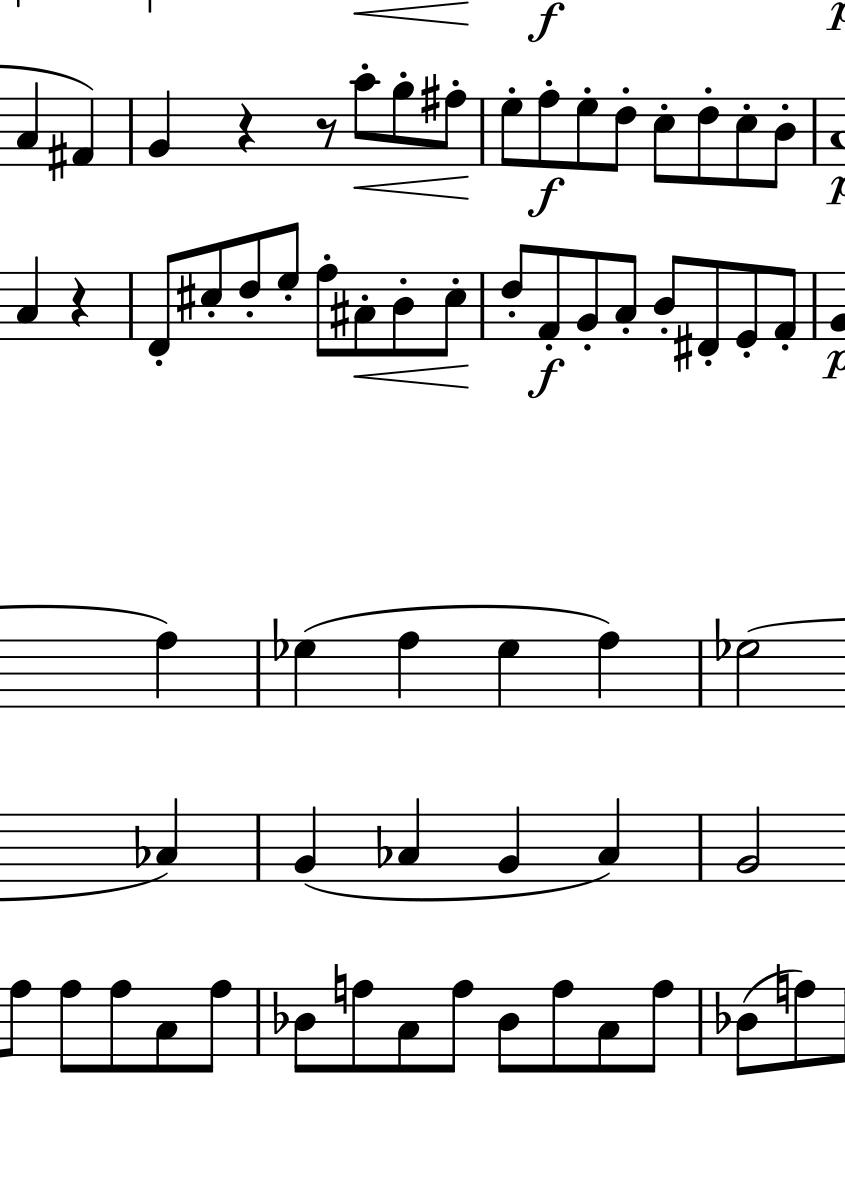2_2: (735, 804, 761, 883)
2_7: (734, 638, 761, 710)
4_1: (70, 96, 95, 168)
4_2: (293, 805, 318, 883), (497, 805, 522, 882), (148, 88, 171, 168)
4_3: (14, 81, 40, 166), (14, 254, 39, 341), (397, 797, 422, 883), (156, 797, 180, 884), (597, 796, 621, 883)
4_7: (495, 638, 521, 710), (292, 639, 316, 711)
4_8: (595, 631, 621, 711), (394, 630, 420, 709), (153, 631, 178, 711)
8_-1: (147, 252, 176, 359), (697, 258, 722, 359)
8_0: (734, 262, 760, 349)
8_1: (537, 246, 561, 342), (771, 267, 797, 341)
8_10: (351, 72, 380, 167)
8_2: (576, 250, 600, 341)
8_3: (349, 271, 377, 360), (153, 986, 180, 1075), (595, 987, 621, 1073), (395, 986, 420, 1075), (614, 254, 638, 341)
8_4: (767, 97, 798, 190), (652, 254, 684, 341), (386, 271, 416, 359), (733, 987, 758, 1080), (292, 987, 318, 1076), (495, 986, 521, 1075)
8_5: (434, 271, 468, 359), (199, 240, 224, 342), (732, 97, 759, 189), (651, 97, 677, 183)
8_6: (498, 243, 531, 341), (237, 229, 263, 343), (606, 96, 638, 173), (695, 96, 720, 186)
8_7: (276, 221, 302, 342), (574, 97, 600, 171), (499, 96, 524, 169)
8_8: (440, 978, 475, 1074), (641, 978, 675, 1075), (200, 978, 233, 1076), (106, 979, 133, 1075), (1, 978, 32, 1061), (548, 979, 575, 1074), (349, 980, 376, 1074), (57, 979, 83, 1074), (437, 89, 468, 168), (314, 263, 337, 358), (793, 979, 817, 1070), (535, 89, 560, 169)
8_9: (390, 81, 415, 168)
Crescendo_hairpin: (354, 172, 470, 201), (352, 362, 471, 388)
Flat: (710, 614, 730, 664), (269, 616, 288, 663), (271, 990, 289, 1036), (374, 823, 392, 869), (713, 992, 731, 1038), (134, 824, 150, 872)
Natural: (332, 962, 348, 1016), (776, 963, 790, 1015)
Rests4: (235, 102, 254, 156), (69, 276, 87, 329)
Rests8: (315, 117, 338, 148)
Sharp: (172, 271, 197, 324), (327, 288, 351, 343), (46, 131, 68, 182), (671, 324, 694, 372), (418, 73, 439, 125)
Single_barline: (690, 813, 711, 881), (691, 640, 711, 708), (250, 640, 269, 708), (249, 814, 268, 881), (692, 988, 709, 1058), (806, 271, 822, 340), (807, 97, 823, 166), (123, 272, 139, 340), (124, 98, 140, 166), (251, 988, 267, 1055), (474, 98, 490, 165), (475, 272, 490, 340)
Slur: (299, 605, 613, 632), (304, 874, 611, 901), (739, 967, 802, 1003)
f: (519, 1, 571, 45), (521, 357, 567, 400), (523, 177, 566, 218)
